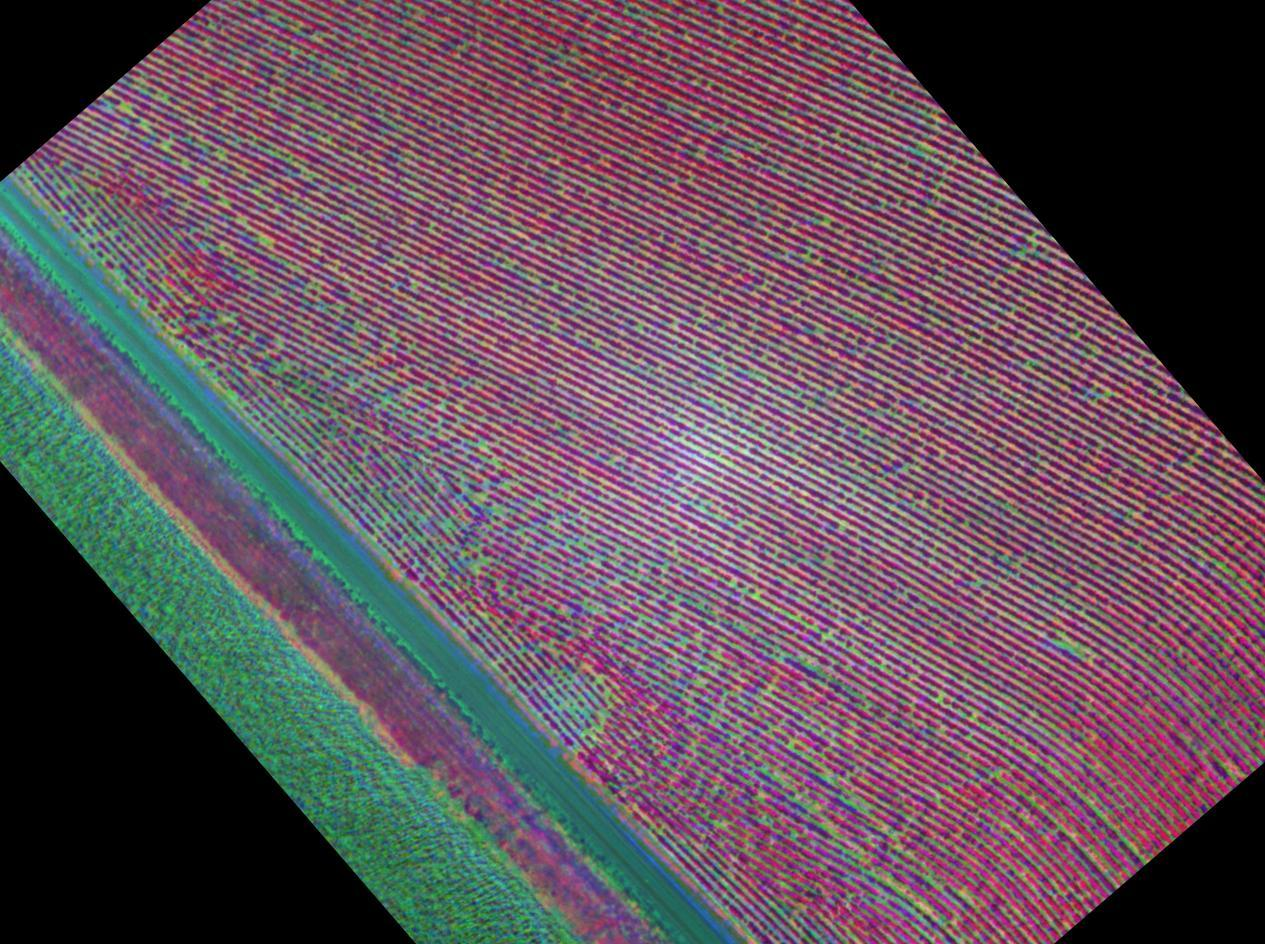dc: (825, 219, 831, 224), (804, 256, 810, 261), (260, 237, 265, 242), (596, 726, 601, 731), (162, 143, 166, 148), (62, 191, 67, 195), (1019, 253, 1023, 258), (1107, 390, 1111, 395), (841, 524, 846, 528), (562, 56, 567, 60), (600, 711, 605, 715), (428, 228, 432, 232), (716, 653, 720, 657), (695, 681, 699, 685), (1031, 238, 1034, 242)
